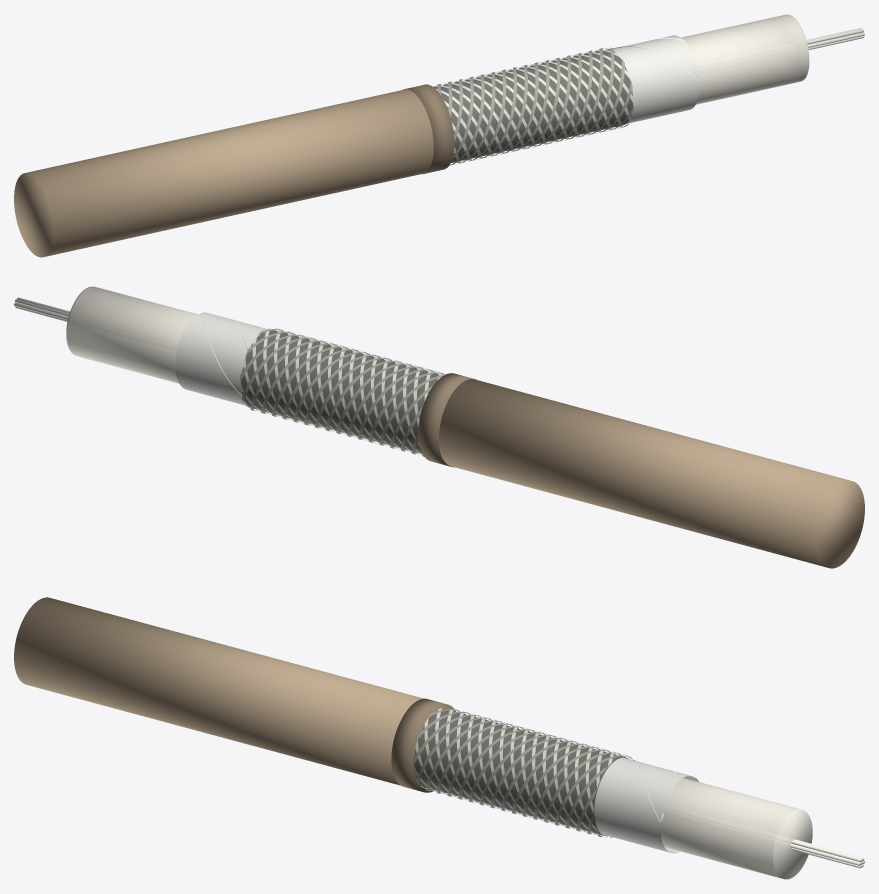
File: rf-gorephaseflex024.glb
3 renders of one model, top to bottom at view 1: azimuth 30°, elevation 25°; view 2: azimuth 150°, elevation 25°; view 3: azimuth 330°, elevation 25°, orthographic. The views are drawn at different scales.
Parts seen in each view (by area): view 1: matte black pvc jacket body, braid dark diamond recess, gas injected foam dielectric, smooth dielectric skin, duobond foil sleeve, jacket cut lip, braid left hand woven carrier 10, braid left hand woven carrier 01, braid left hand woven carrier 02, braid left hand woven carrier 09, braid left hand woven carrier 03, braid left hand woven carrier 08 (+5 smaller); view 2: matte black pvc jacket body, braid dark diamond recess, gas injected foam dielectric, smooth dielectric skin, duobond foil sleeve, jacket cut lip, braid left hand woven carrier 07, braid left hand woven carrier 08, braid left hand woven carrier 09, braid left hand woven carrier 06, braid left hand woven carrier 05, braid left hand woven carrier 10 (+1 smaller); view 3: matte black pvc jacket body, gas injected foam dielectric, braid dark diamond recess, smooth dielectric skin, duobond foil sleeve, jacket cut lip, braid left hand woven carrier 01, braid left hand woven carrier 10, braid left hand woven carrier 02, braid left hand woven carrier 09, braid left hand woven carrier 03, braid left hand woven carrier 08.
Boxes of the visible parts, box(x1,y1,x2,y2) form: matte black pvc jacket body: box(14, 89, 433, 257); braid dark diamond recess: box(434, 49, 632, 162); gas injected foam dielectric: box(682, 14, 809, 104); smooth dielectric skin: box(681, 14, 807, 104); duobond foil sleeve: box(613, 35, 698, 123); jacket cut lip: box(403, 84, 454, 174); braid left hand woven carrier 10: box(449, 50, 592, 165); braid left hand woven carrier 01: box(451, 48, 603, 165); braid left hand woven carrier 02: box(454, 47, 614, 162); braid left hand woven carrier 09: box(452, 53, 581, 159); braid left hand woven carrier 03: box(467, 58, 624, 160); braid left hand woven carrier 08: box(454, 55, 570, 148); matte black pvc jacket body: box(439, 379, 864, 568); braid dark diamond recess: box(241, 330, 438, 453); gas injected foam dielectric: box(66, 286, 197, 383); smooth dielectric skin: box(67, 286, 197, 383); duobond foil sleeve: box(175, 312, 266, 405); jacket cut lip: box(418, 373, 476, 467); braid left hand woven carrier 07: box(261, 343, 445, 442); braid left hand woven carrier 08: box(250, 340, 444, 439); braid left hand woven carrier 09: box(241, 337, 437, 436); braid left hand woven carrier 06: box(272, 346, 442, 445); braid left hand woven carrier 05: box(282, 349, 433, 448); braid left hand woven carrier 10: box(240, 335, 426, 433); matte black pvc jacket body: box(14, 597, 423, 785); gas injected foam dielectric: box(660, 778, 812, 879); braid dark diamond recess: box(414, 709, 628, 836); smooth dielectric skin: box(661, 778, 801, 878); duobond foil sleeve: box(594, 757, 698, 853); jacket cut lip: box(391, 698, 456, 792); braid left hand woven carrier 01: box(436, 723, 632, 822); braid left hand woven carrier 10: box(426, 720, 622, 819); braid left hand woven carrier 02: box(447, 726, 621, 825); braid left hand woven carrier 09: box(416, 717, 610, 816); braid left hand woven carrier 03: box(458, 729, 607, 828); braid left hand woven carrier 08: box(413, 715, 599, 814).
Bounding box in the file's own units: 6.51 × 0.606 × 0.7994.
